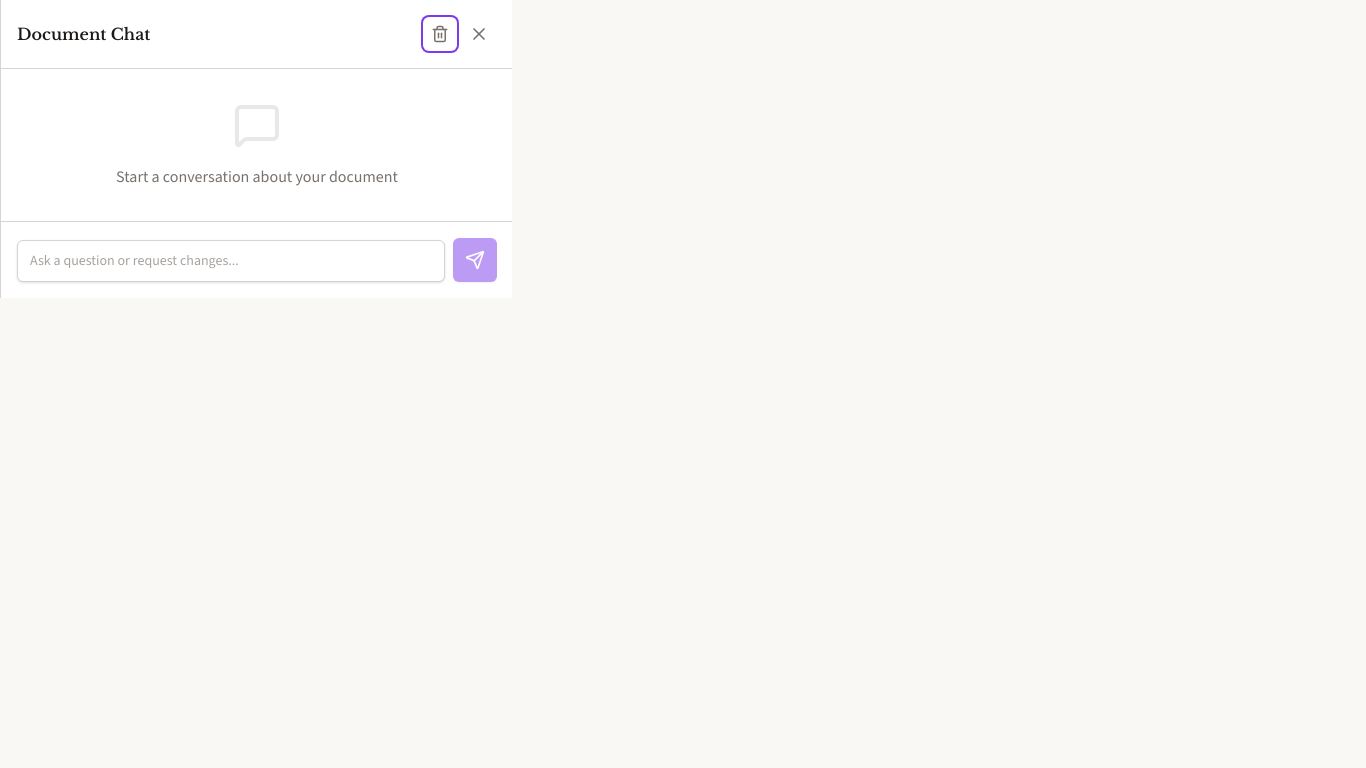
Scenario: ChatSidebar › Clear History › should show confirm dialog when clear button clicked
Click the button with test id "chat-clear-history": (440, 34) [423, 17, 457, 51]
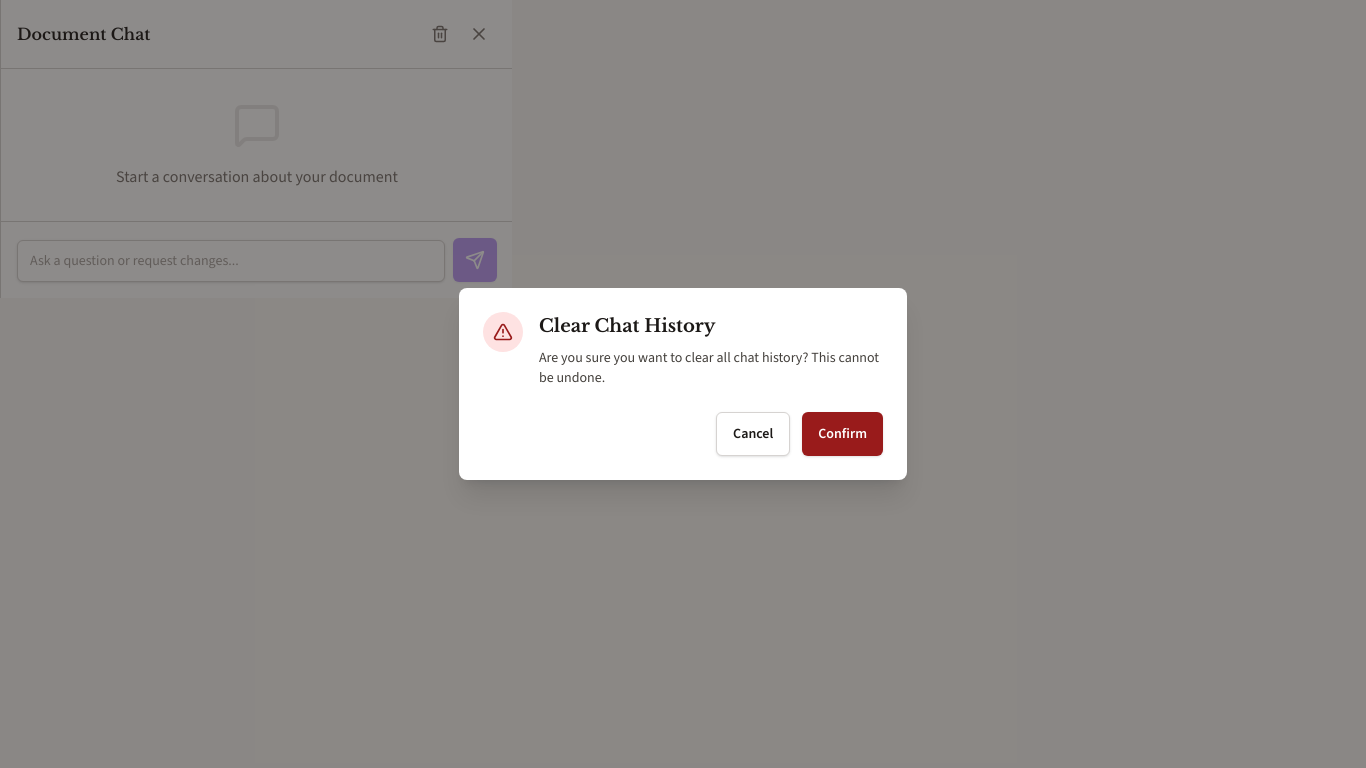
Result: the heading "Clear Chat History" is shown at [539, 315, 715, 337]
